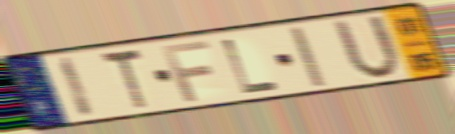F: (159, 38, 214, 105)
I: (56, 54, 99, 120), (286, 24, 329, 90)
L: (219, 36, 283, 96)
T: (97, 46, 152, 112)
U: (330, 13, 404, 83)
